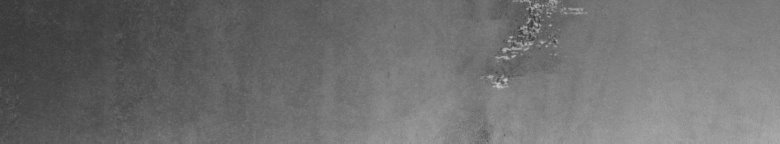hc: (477, 4, 588, 136)
